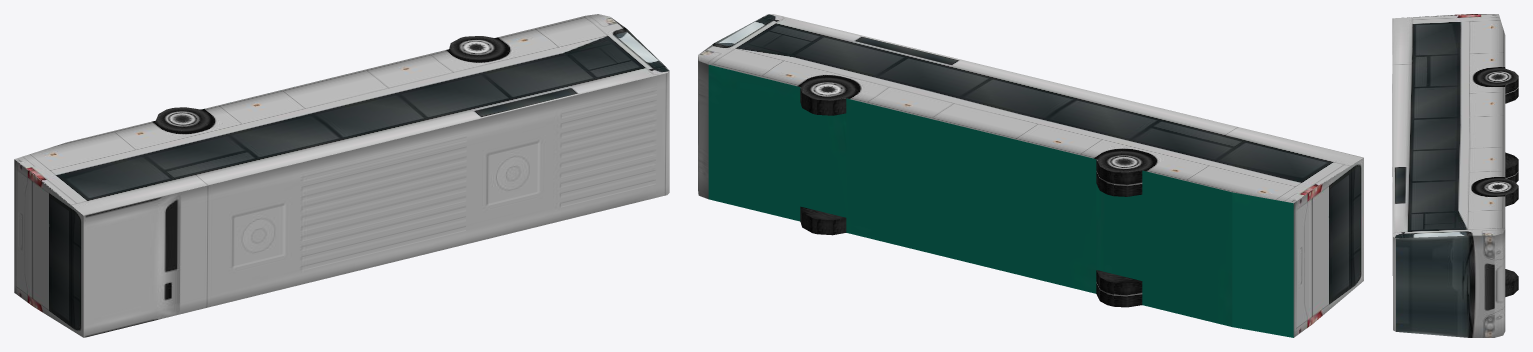
File: scaled-transit-bus-low-poly-2.glb
3 renders of one model, left to right at view 1: azimuth 30°, elevation 25°; view 2: azimuth 150°, elevation 25°; view 3: azimuth 270°, elevation 25°, orthographic. The views are drawn at different scales.
Parts seen in each view (by area): view 1: Bus; view 2: Bus; view 3: Bus.
Part boxes in pixels (x1,y1,x2,y2): Bus: [14, 14, 669, 337]; Bus: [698, 14, 1363, 337]; Bus: [1392, 14, 1518, 337].
Size of the model in its own units: 10.47 by 2.25 by 2.52.
1 material, 1 textured.
